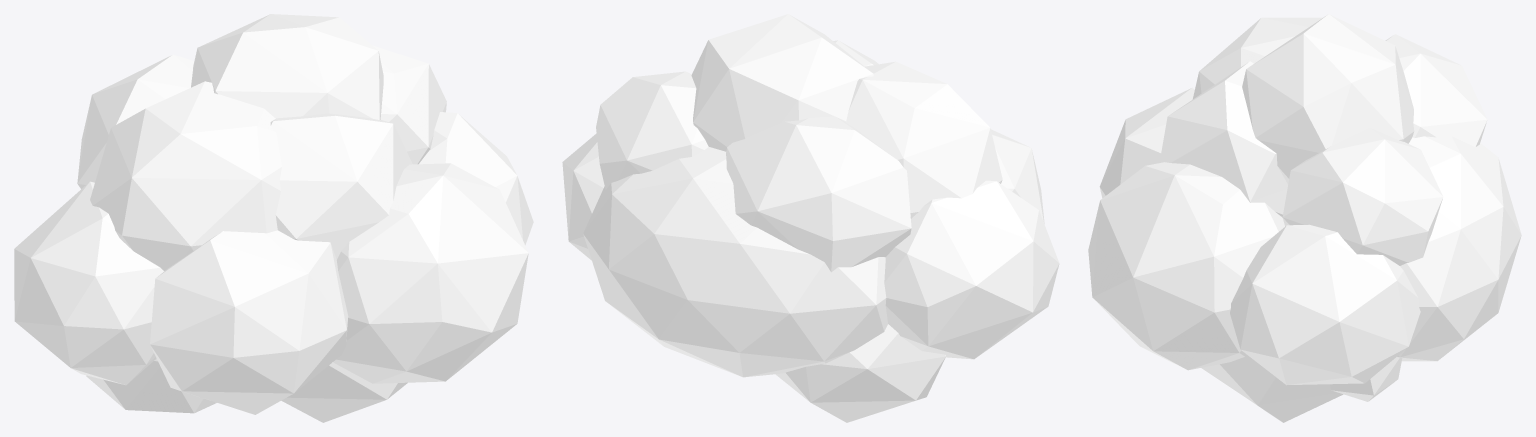
The model's file is cloud-fluffy.glb.
3 renders of one model, left to right at view 1: azimuth 30°, elevation 25°; view 2: azimuth 150°, elevation 25°; view 3: azimuth 270°, elevation 25°, orthographic. The views are drawn at different scales.
Visible parts, largest first — view 1: cloud-fluffy; view 2: cloud-fluffy; view 3: cloud-fluffy.
Part boxes in pixels (<box>): cloud-fluffy: <box>14,14,533,422</box>; cloud-fluffy: <box>562,14,1059,422</box>; cloud-fluffy: <box>1088,14,1521,422</box>.
Bounding box in the file's own units: 6.22 × 4.57 × 4.97.
Materials: 1 (1 with a texture image).
